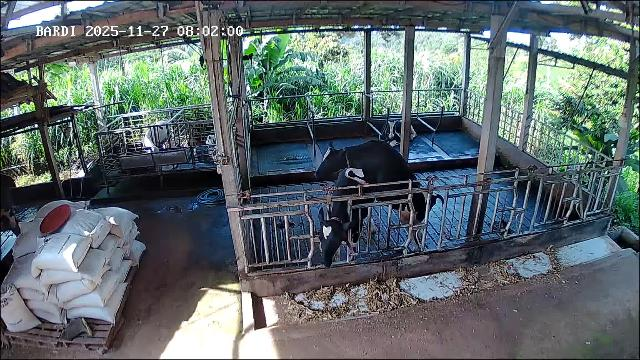mounting: (313, 141, 437, 250)
